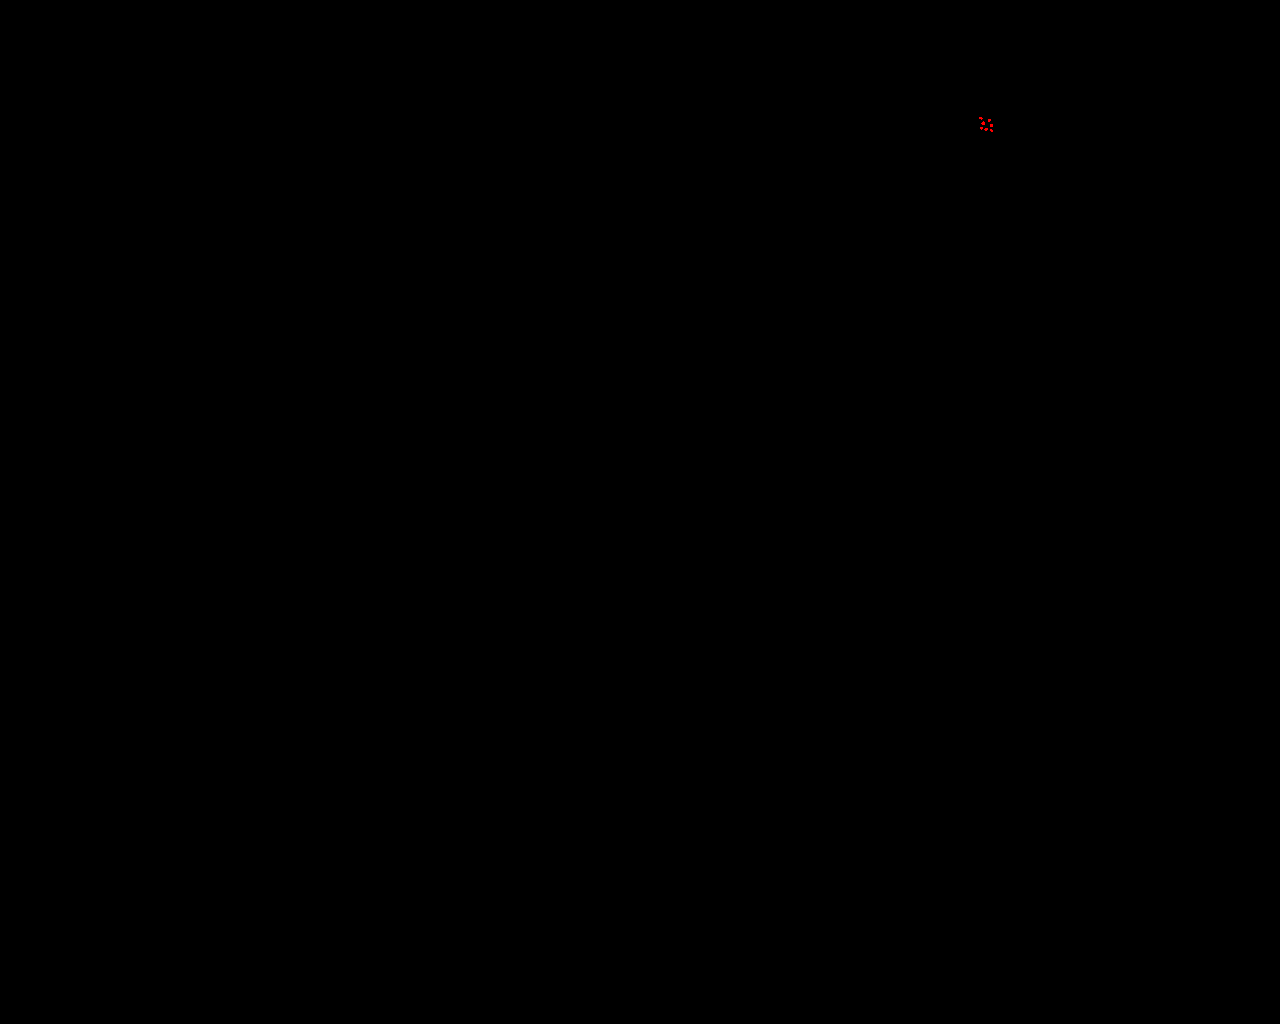Target: (981, 121, 985, 125), (979, 117, 983, 120), (984, 127, 988, 131), (990, 124, 993, 127), (990, 129, 993, 132), (988, 119, 991, 122), (980, 127, 983, 130)
